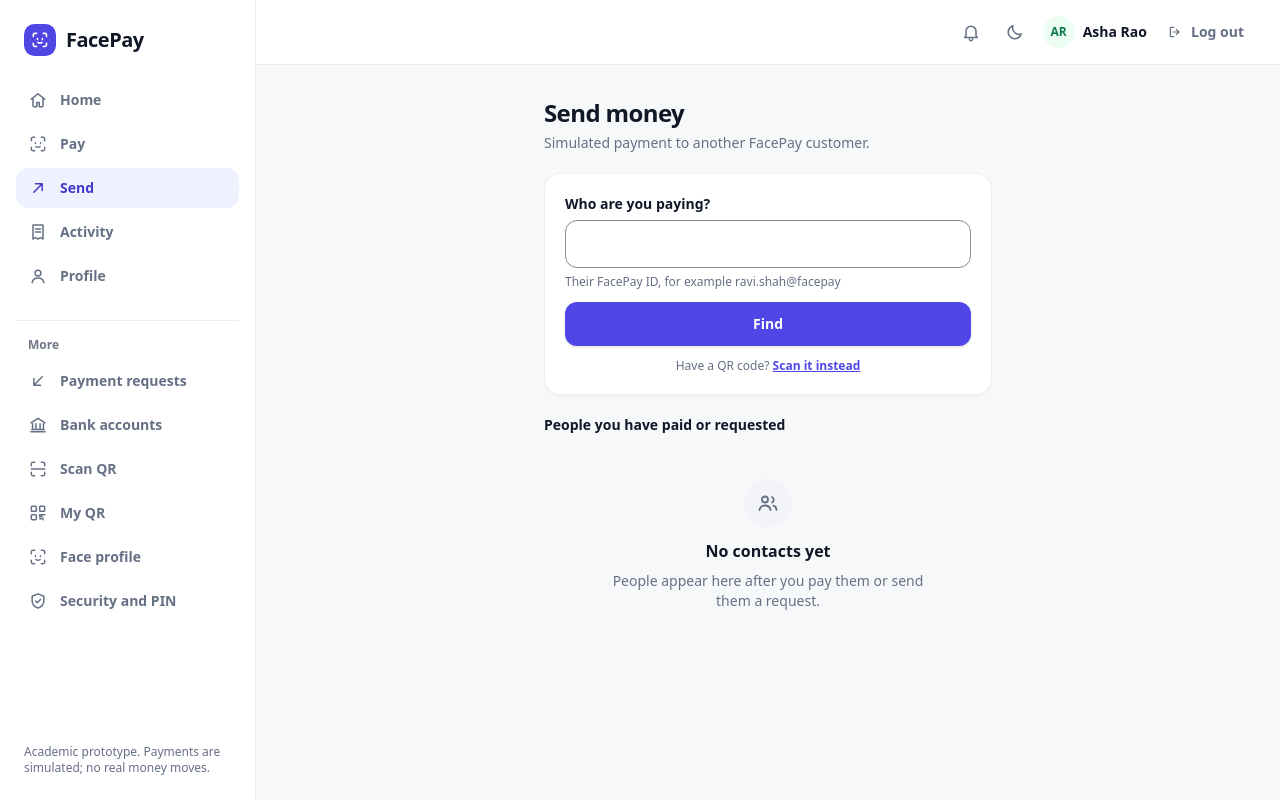
Test case: Send money › resolves the recipient, then prepares the payment and opens the review
Type "Ravi.Shah@facepay" into the field labelled "Who are you paying?" at (768, 244), box [565, 220, 971, 268]
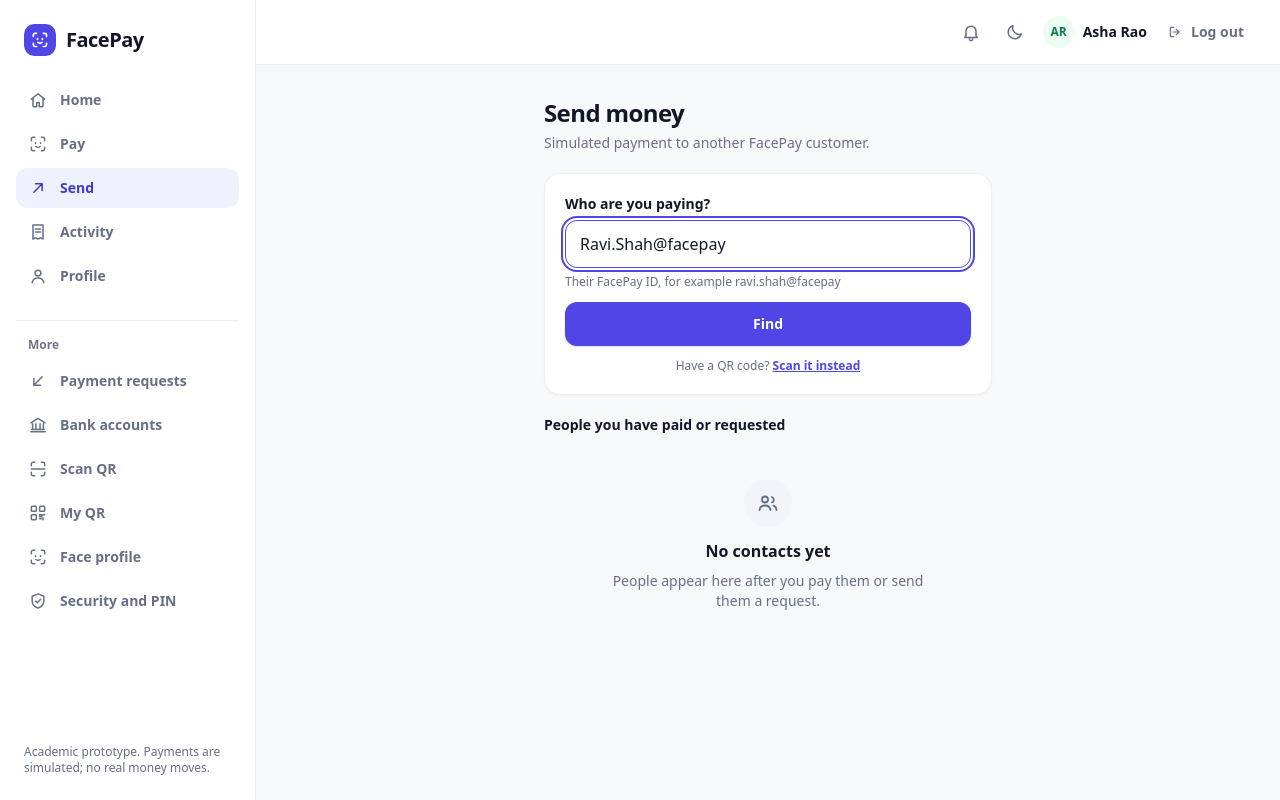
Click the button "Find" at (768, 324), box [565, 302, 971, 346]
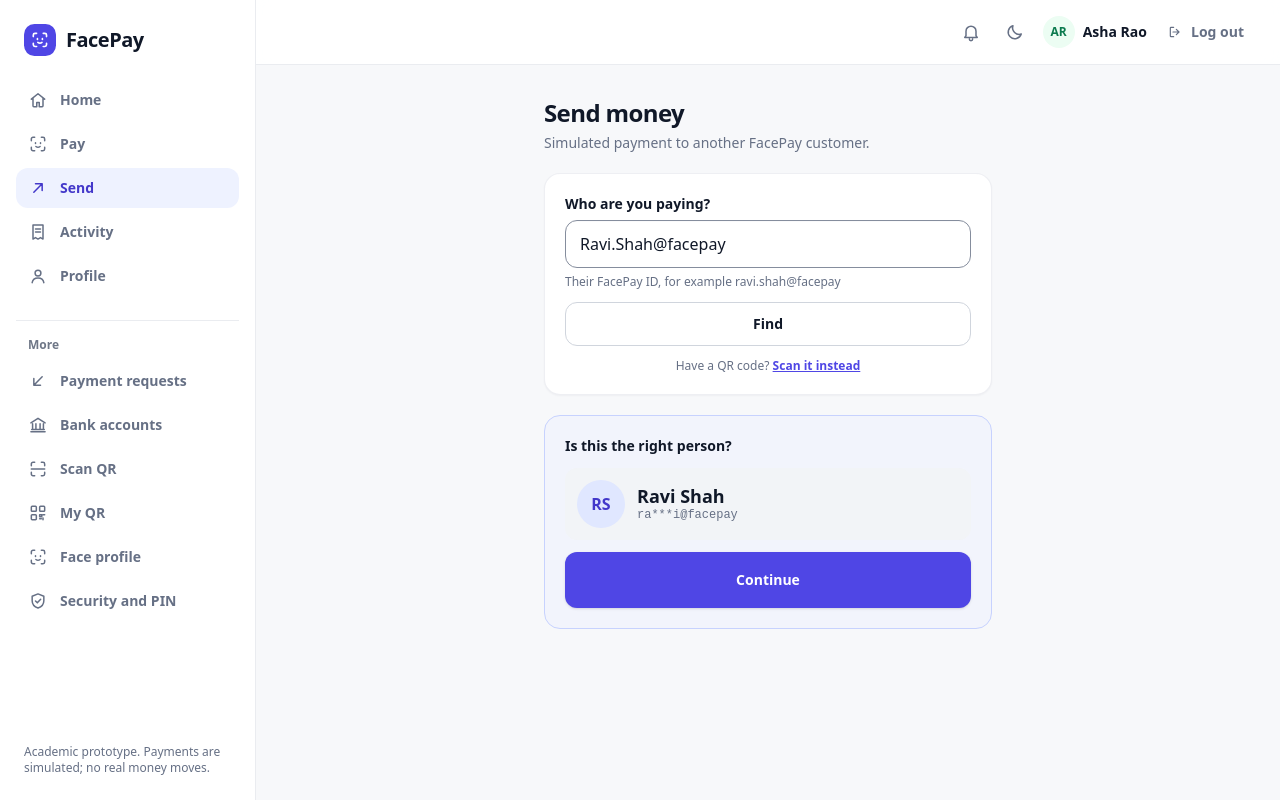
Check: the text "Ravi Shah" is shown, box [637, 485, 738, 507]
Check: the text "ra***i@facepay" is shown, box [637, 507, 738, 523]
Click the button "Continue" at (768, 580), box [565, 552, 971, 608]
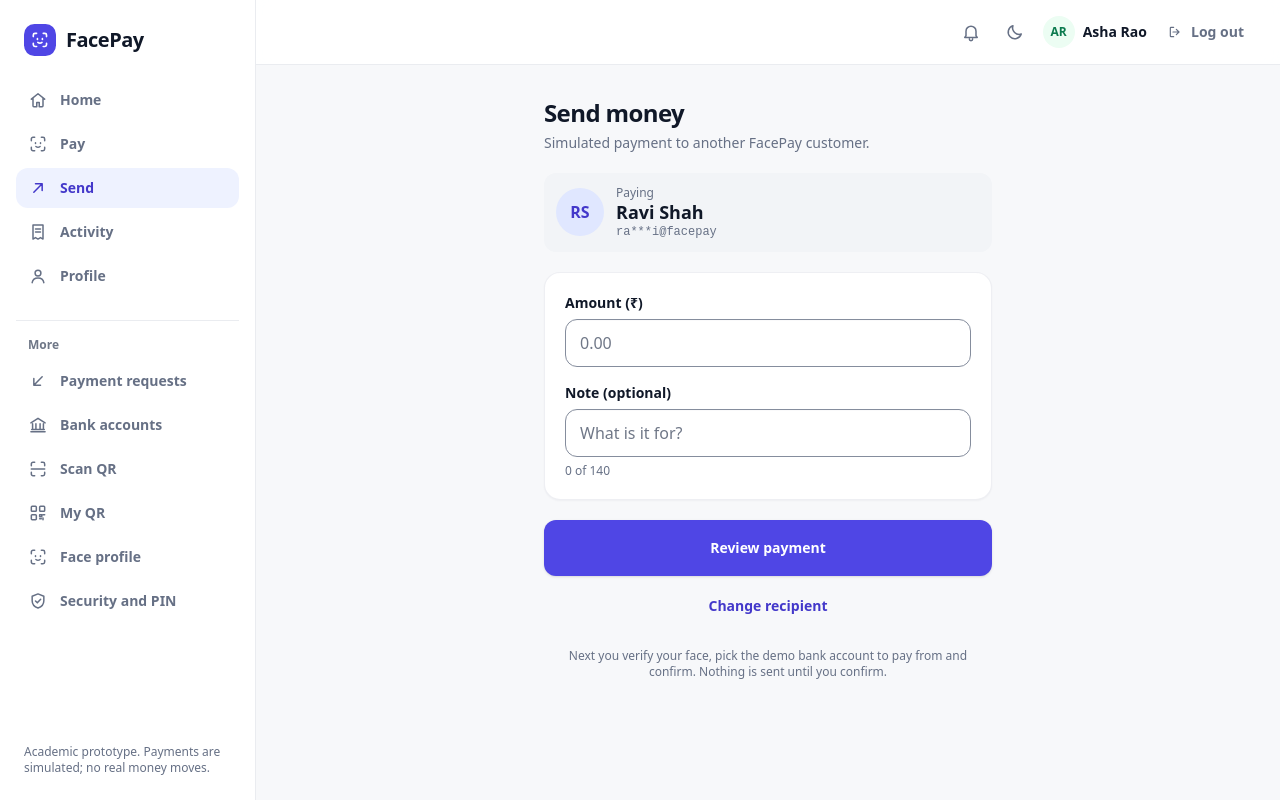
Type "250" into the field labelled "Amount (₹)" at (768, 342), box [565, 318, 971, 366]
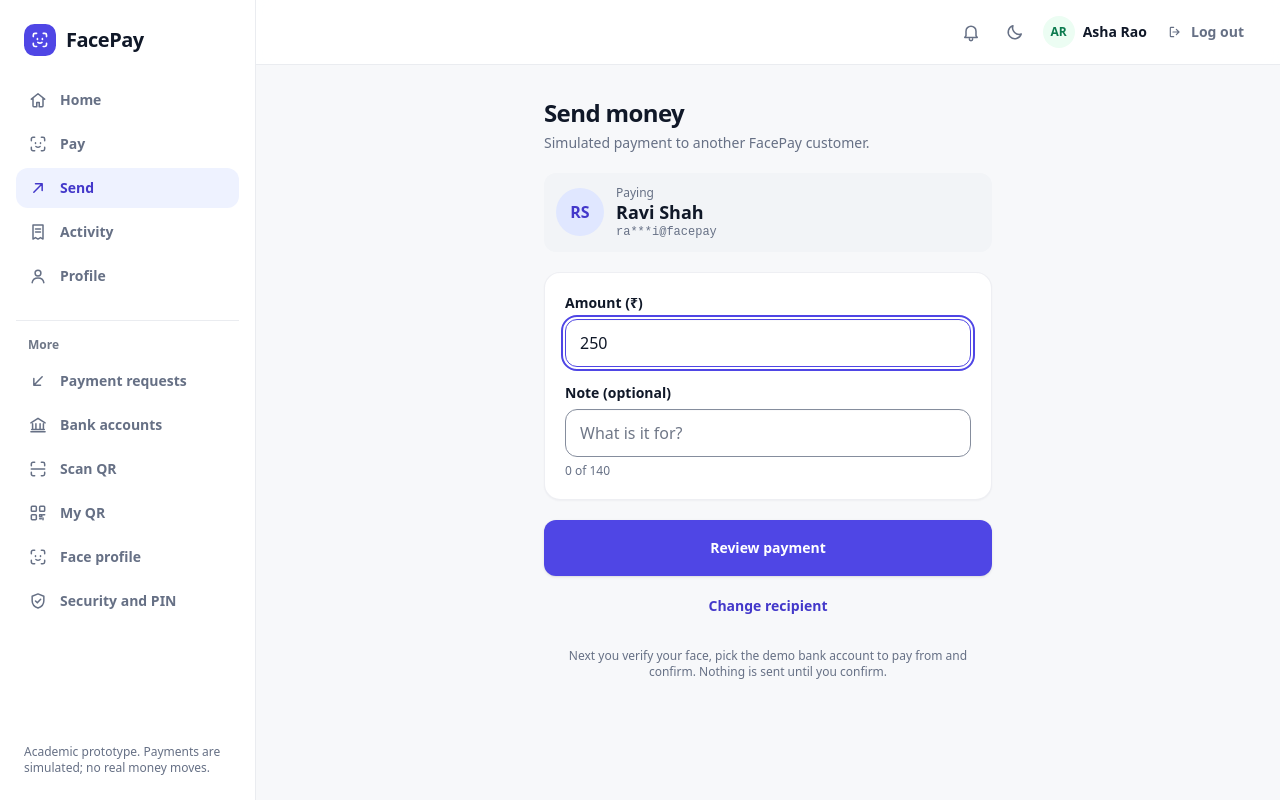
Type "Cab fare" into the field labelled "Note (optional)" at (768, 432), box [565, 408, 971, 456]
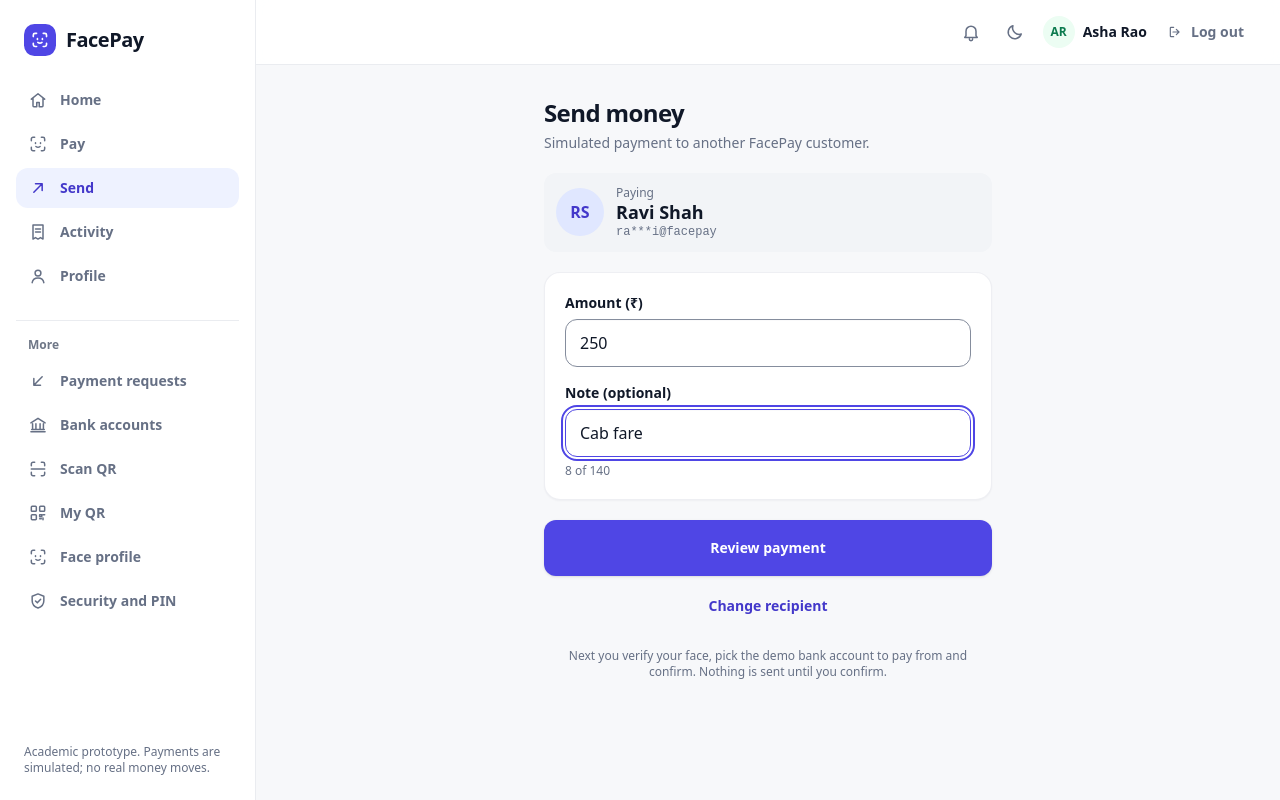
Click the button "Review payment" at (768, 548), box [544, 520, 992, 576]
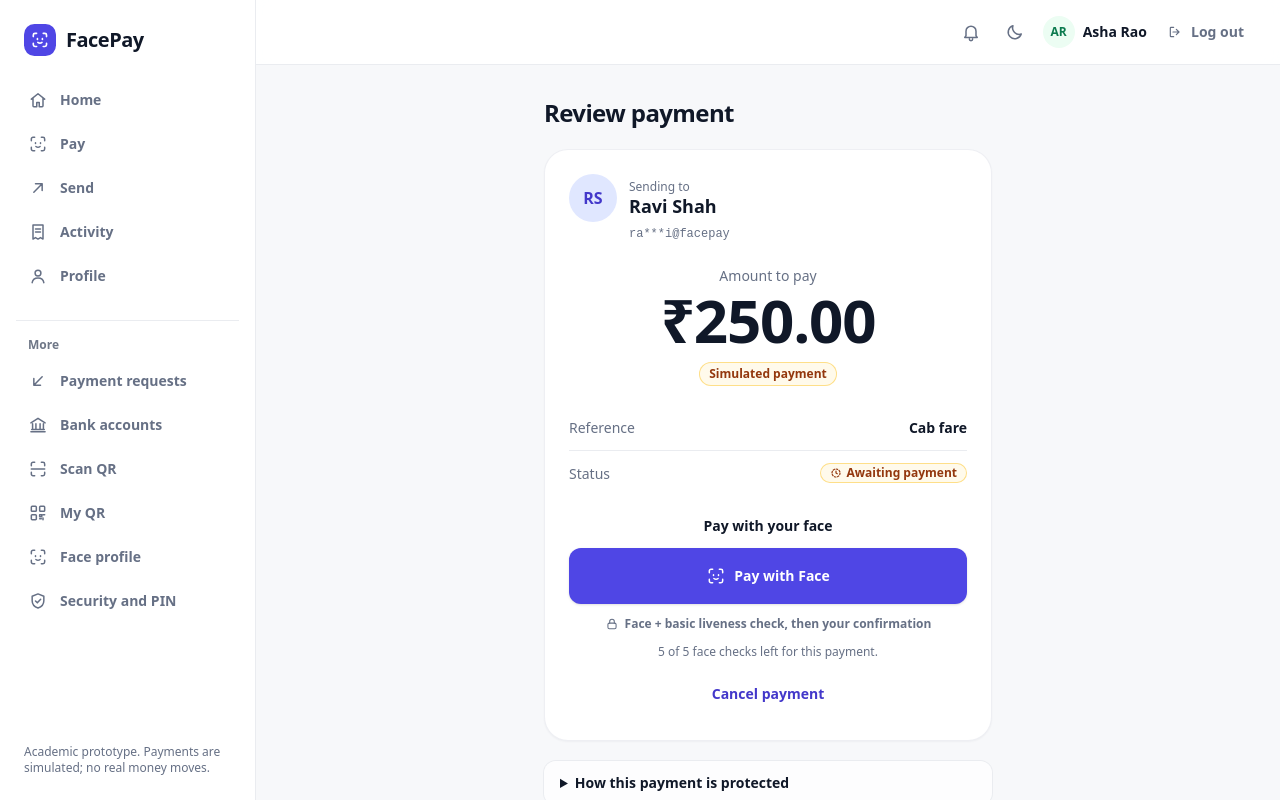
Check: the text "Ravi Shah" is shown, box [629, 195, 717, 217]
Check: the heading "Review payment" is shown, box [544, 96, 734, 129]
Check: the text with test id "checkout-amount" reads "₹250.00", box [661, 279, 875, 361]
